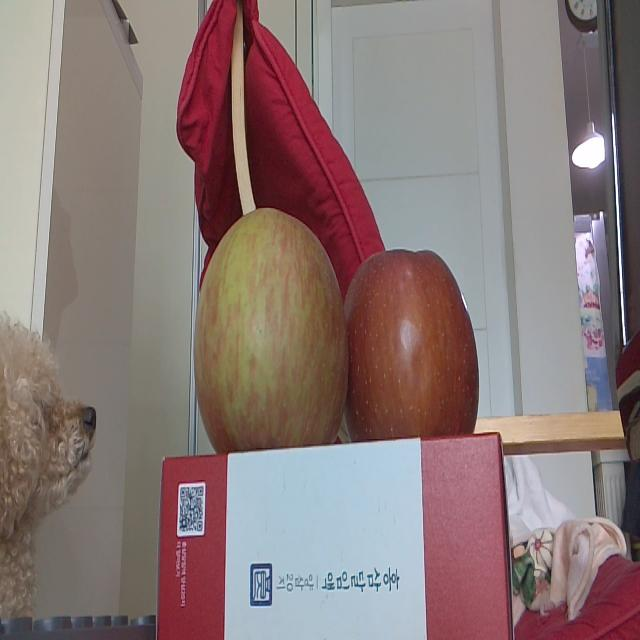apple: (192, 206, 346, 444), (345, 248, 479, 437)
